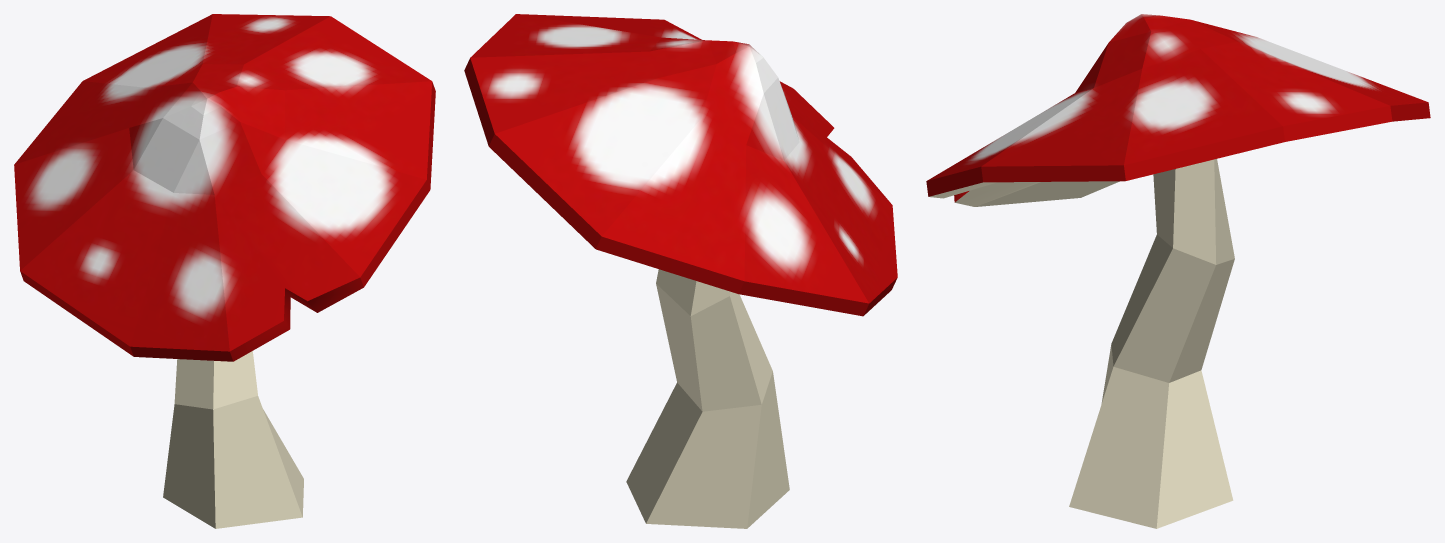
Rendered from model_polytope_mushroom01.fbx.
The picture shows the model from 3 angles, left to right: view 1: azimuth 30°, elevation 25°; view 2: azimuth 150°, elevation 25°; view 3: azimuth 270°, elevation 25°; orthographic projection. The views are drawn at different scales.
Parts seen in each view (by area): view 1: model_polytope_mushroom01; view 2: model_polytope_mushroom01; view 3: model_polytope_mushroom01.
Part boxes in pixels (x1,y1,x2,y2): model_polytope_mushroom01: [14, 14, 435, 528]; model_polytope_mushroom01: [464, 14, 897, 528]; model_polytope_mushroom01: [926, 14, 1430, 528].
Size of the model in its own units: 52.35 by 55.95 by 55.46.
